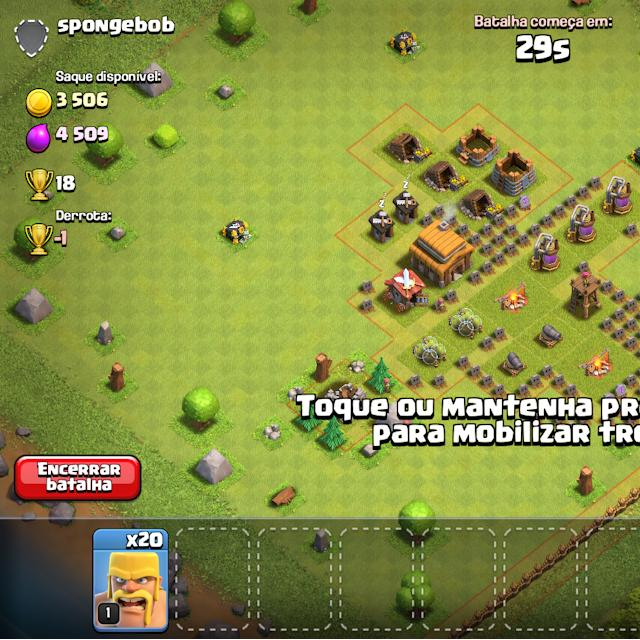Arqueira: (570, 272, 604, 319)
Canhao: (536, 320, 566, 350), (499, 349, 526, 379)
ValueCoin: (54, 88, 116, 116)
ValueElixir: (54, 125, 118, 147)
